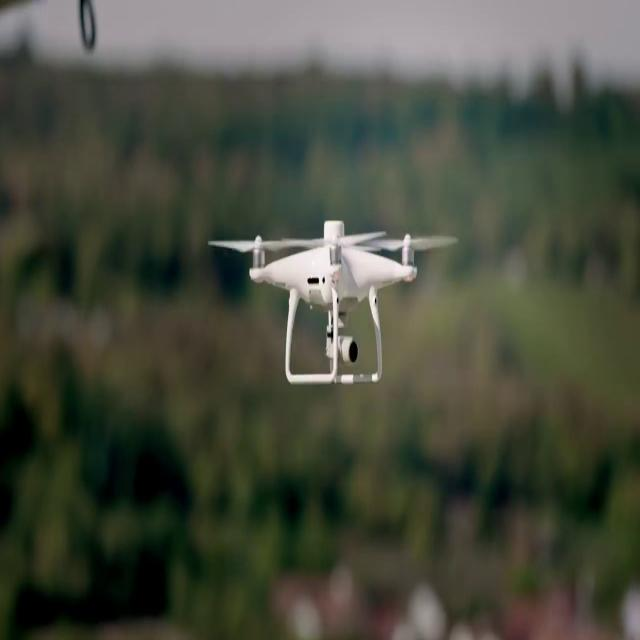drone: (205, 216, 461, 393)
